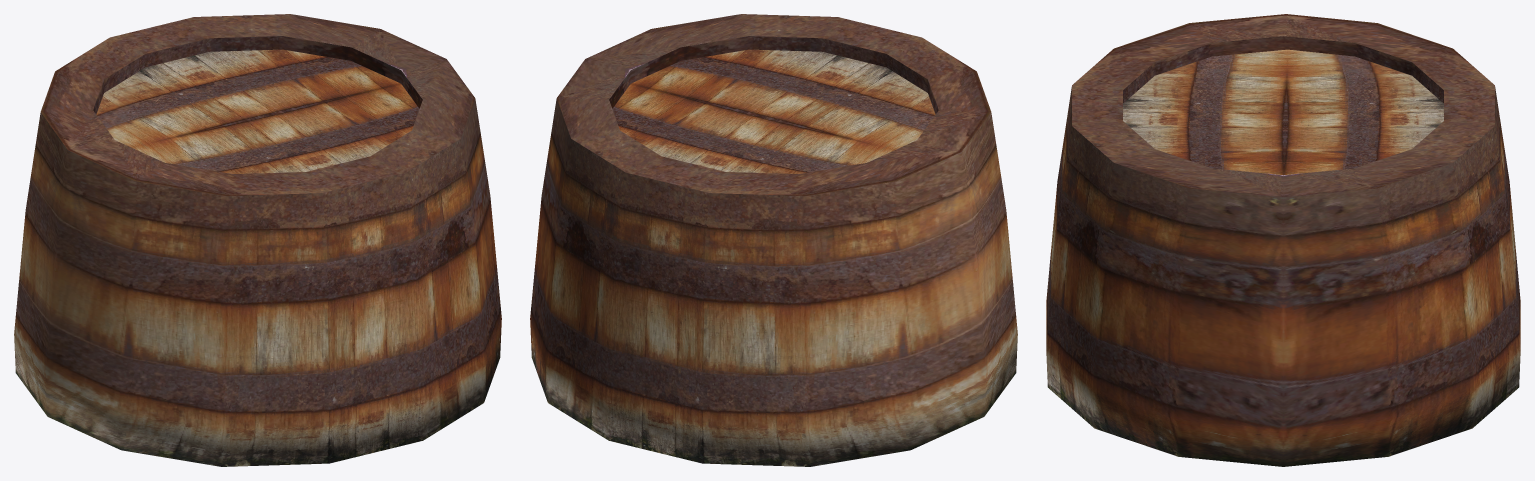
File: half_barrell.obj
3 views of the same model, side by side, from view 1: azimuth 30°, elevation 25°; view 2: azimuth 150°, elevation 25°; view 3: azimuth 270°, elevation 25° (orthographic).
Visible parts, largest first — view 1: half_barrell; view 2: half_barrell; view 3: half_barrell.
Part boxes in pixels (box(x1,y1,x2,y2)): half_barrell: box(14, 14, 501, 466); half_barrell: box(530, 14, 1017, 466); half_barrell: box(1046, 14, 1520, 466).
Size of the model in its own units: 30.4 by 17.86 by 29.63.
